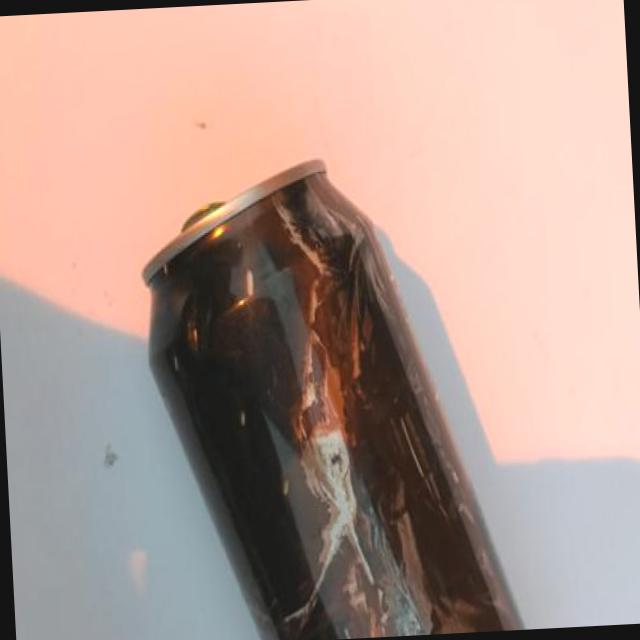kim_loai: (143, 160, 523, 640)
